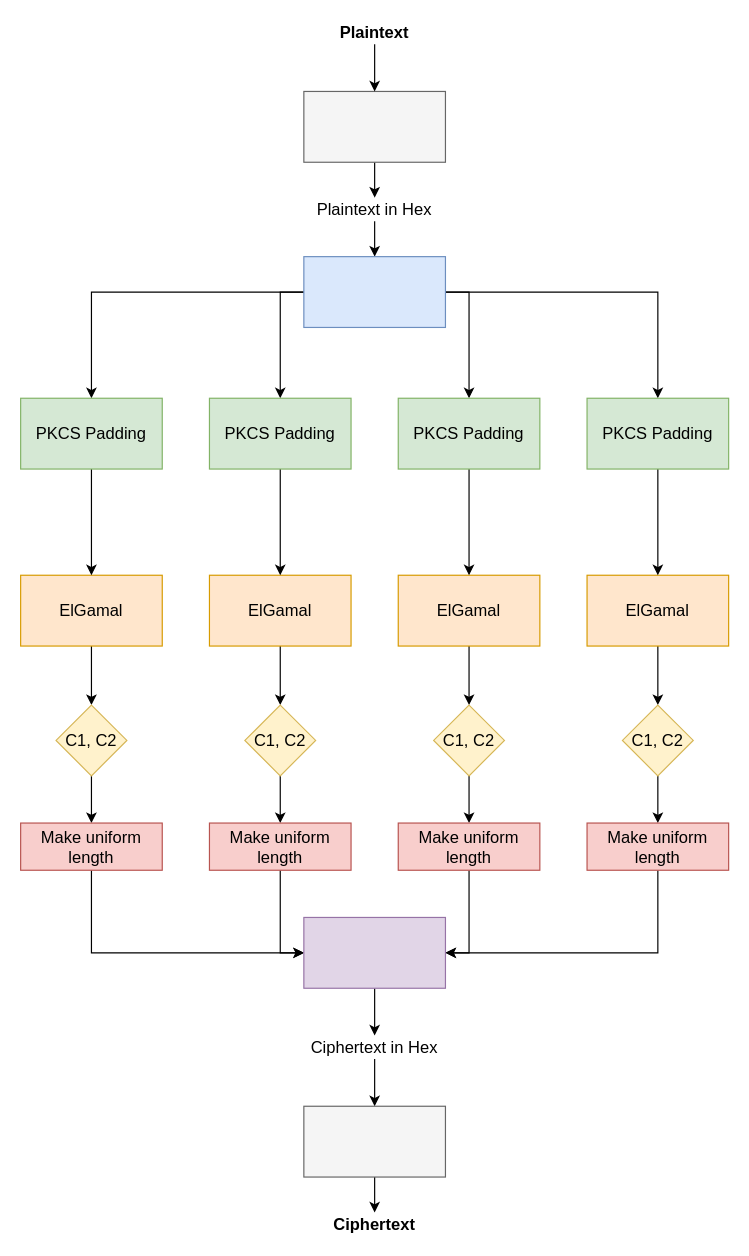
This 749x1256 diagram has some shape labels left out. The centre of each missing label's shape, as x and y in pixels:
"Ascii to Hex" belongs at point 374,126.
"BlockParser" belongs at point 374,291.
"Concatenate" belongs at point 374,952.
"Hex to Ascii" belongs at point 374,1141.
